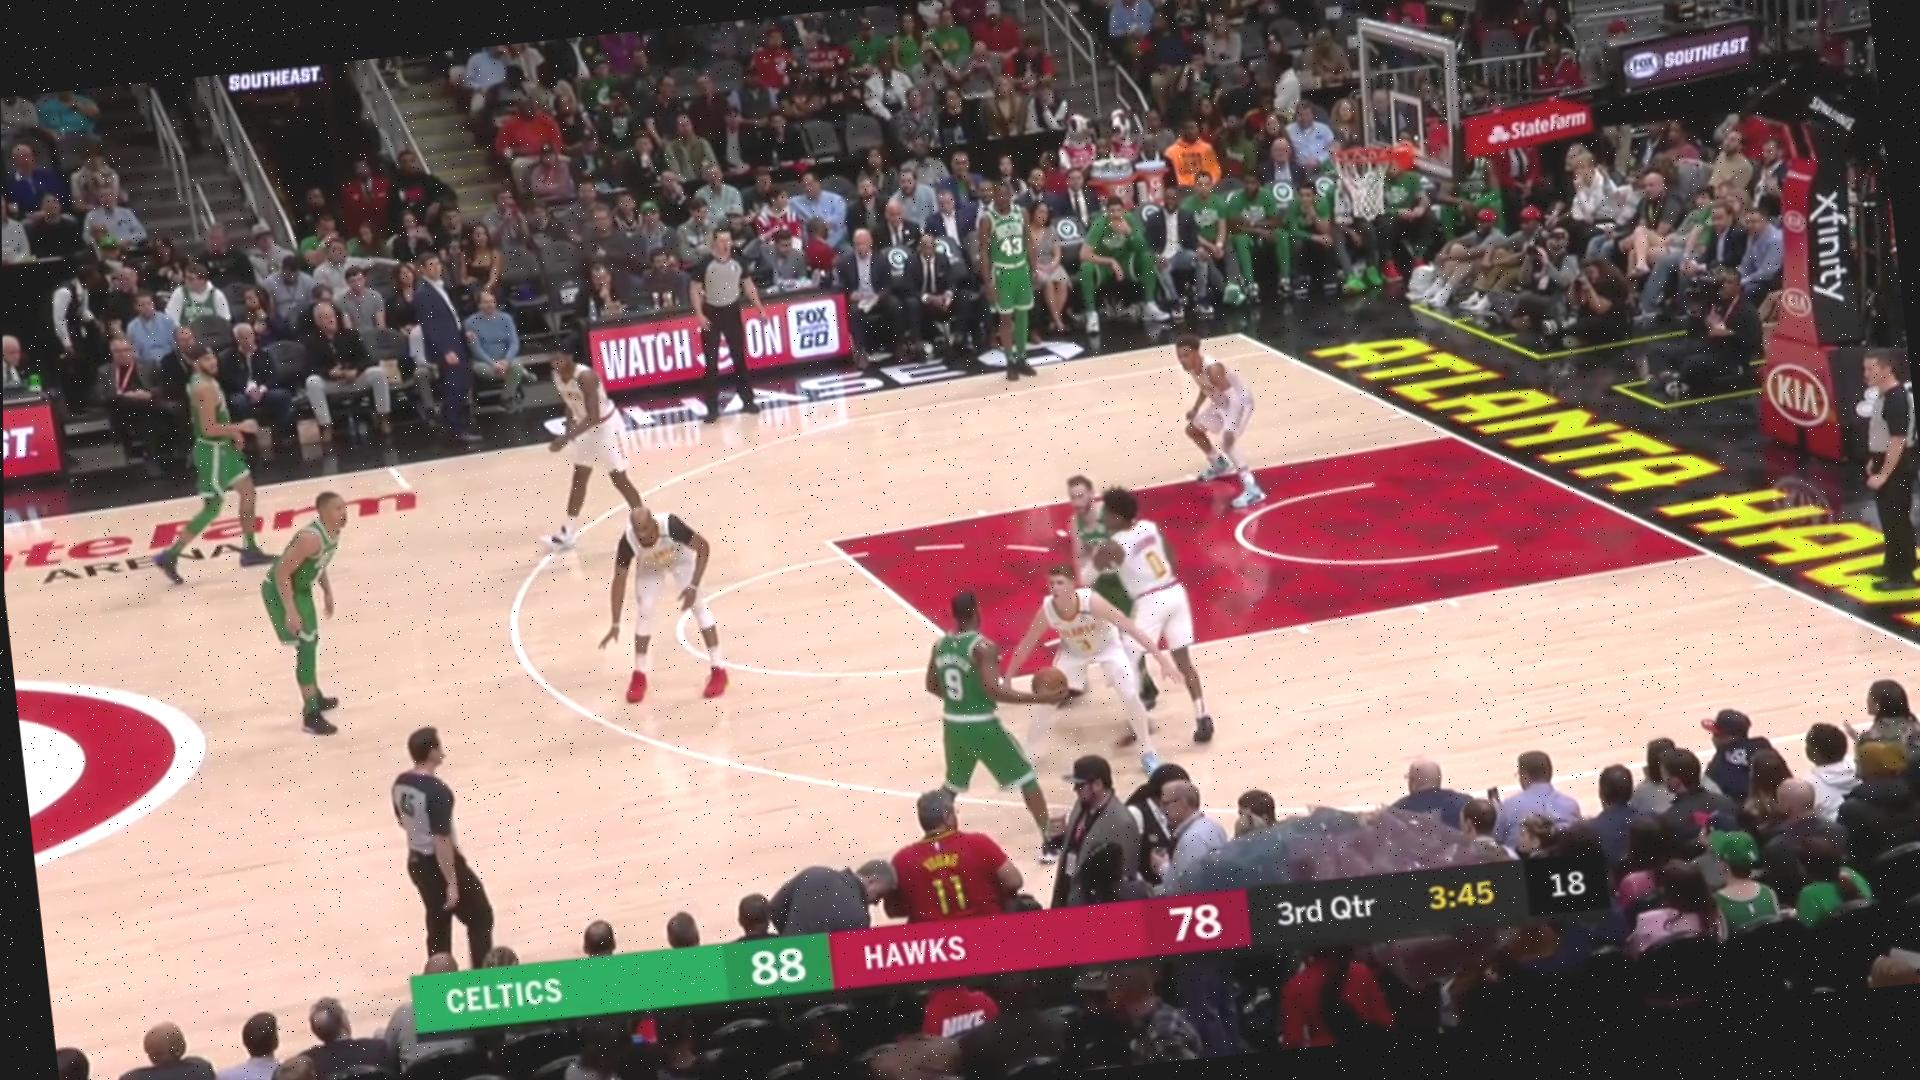no_foul: (1051, 442, 1221, 702)
